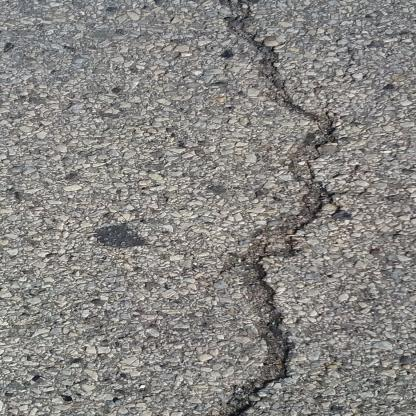Cracks: (82, 0, 342, 416)
